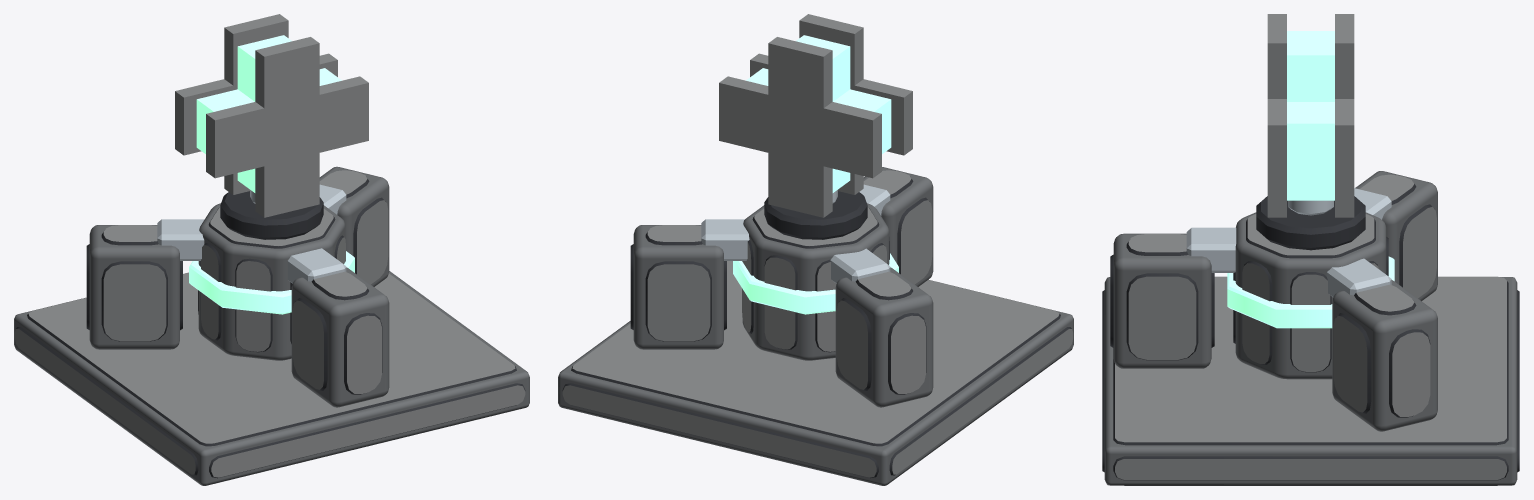
The model's file is R4X_RepairTurretDeployer.glb.
3 views of the same model, side by side, from view 1: azimuth 30°, elevation 25°; view 2: azimuth 150°, elevation 25°; view 3: azimuth 270°, elevation 25° (orthographic). The views are drawn at different scales.
Parts seen in each view (by area): view 1: R4X_RepairTurretDeployer_Body, R4X_RepairTurretDeployer_Pod; view 2: R4X_RepairTurretDeployer_Body, R4X_RepairTurretDeployer_Pod; view 3: R4X_RepairTurretDeployer_Body, R4X_RepairTurretDeployer_Pod.
Boxes of the visible parts, left/top/right/bottom form: R4X_RepairTurretDeployer_Body: left=14, top=166, right=529, bottom=485; R4X_RepairTurretDeployer_Pod: left=175, top=14, right=368, bottom=360; R4X_RepairTurretDeployer_Body: left=558, top=167, right=1073, bottom=485; R4X_RepairTurretDeployer_Pod: left=719, top=14, right=912, bottom=360; R4X_RepairTurretDeployer_Body: left=1102, top=171, right=1519, bottom=485; R4X_RepairTurretDeployer_Pod: left=1227, top=14, right=1394, bottom=379.
Size of the model in its own units: 0.52 by 0.515 by 0.52.
